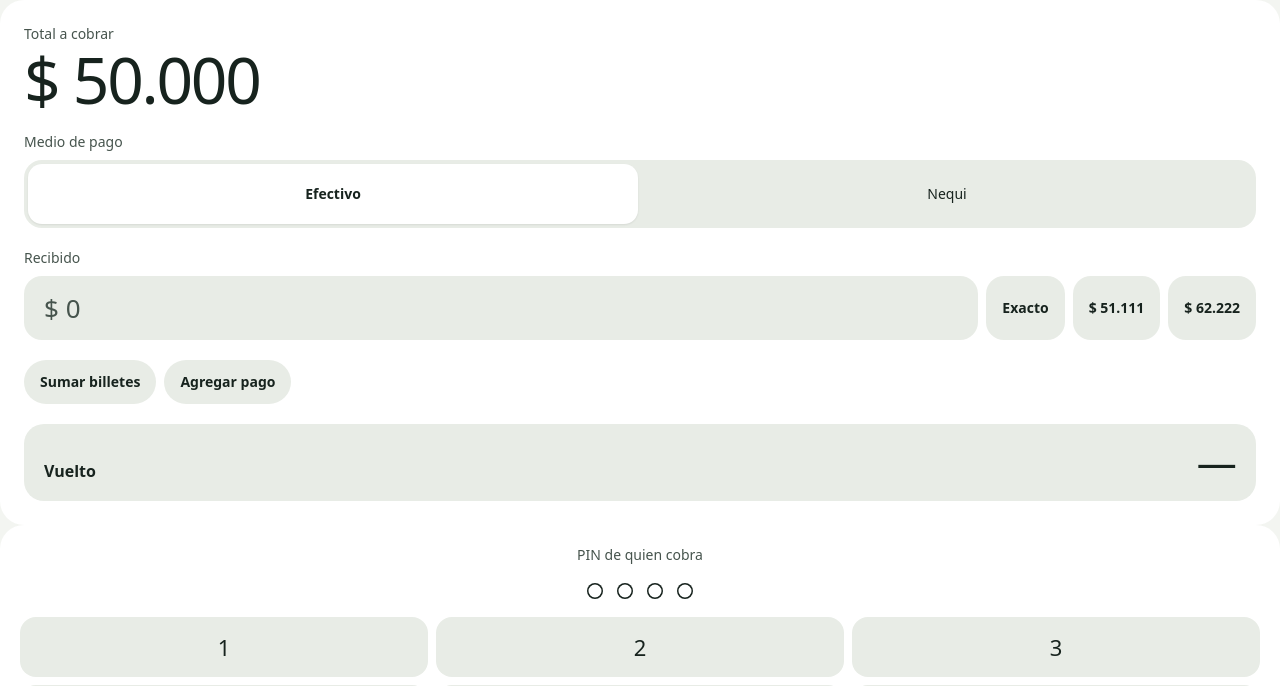
Test: PaymentSplitsForm — medios de pago de la sede › tocar un medio lo elige: la referencia aparece sólo para el que la pide
Click the radio button labelled "Nequi": coordinates (947, 194) [642, 164, 1252, 224]
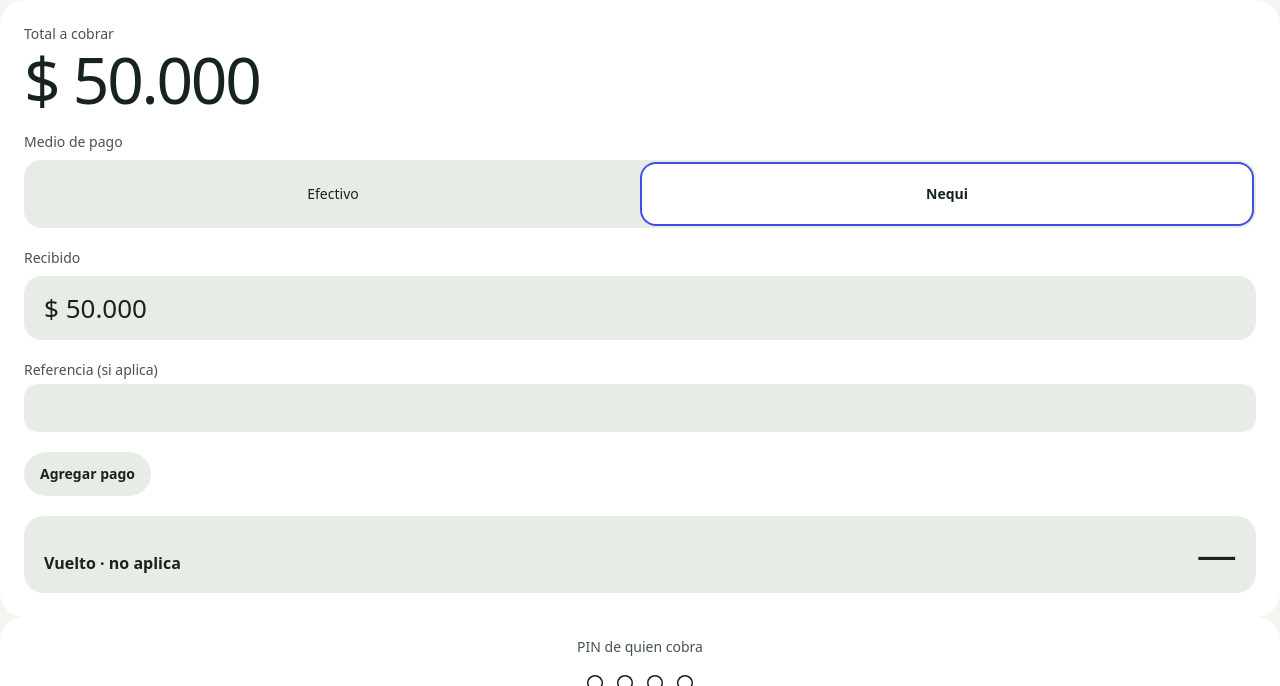
Expected: the field labelled "Referencia (si aplica)" is shown, [24, 384, 1256, 432]
